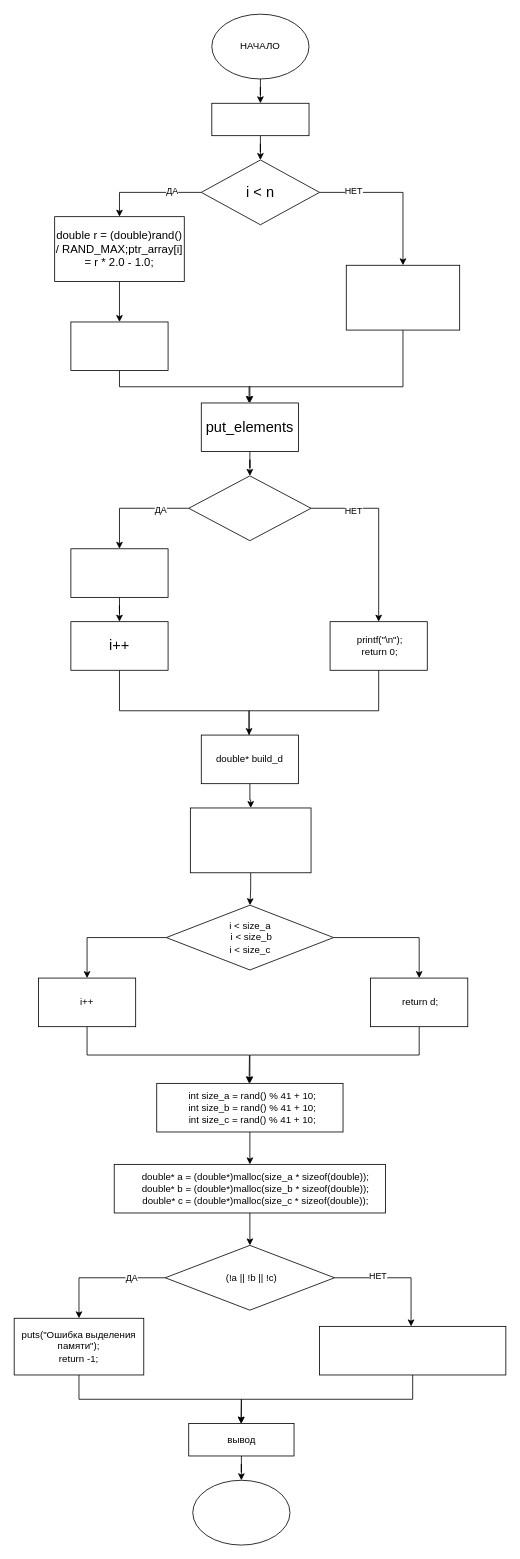
The diagram is 520 pixels wide and 1559 high, and some of its shapes have lost their labels. The shapes that lost their labels are listed below. From the top down, each one's box as (x1, y1, x2, y2) in pixels, then its label:
(211, 102, 309, 136): i = 0
(345, 264, 460, 330): return ptr_array;
(70, 321, 168, 371): i+ +
(188, 475, 311, 541): i < size
(70, 548, 168, 597): printf("%.6lf ", ptr_array[i]);
(190, 807, 311, 873): nt last_neg_index_a = -1, last_neg_index_b = -1, last_neg_index_c = -1;
(319, 1326, 506, 1375): full_elements(a, size_a); full_elements(b, size_b); full_elements(c, size_c);
(192, 1479, 290, 1545): КОНЕЦ
